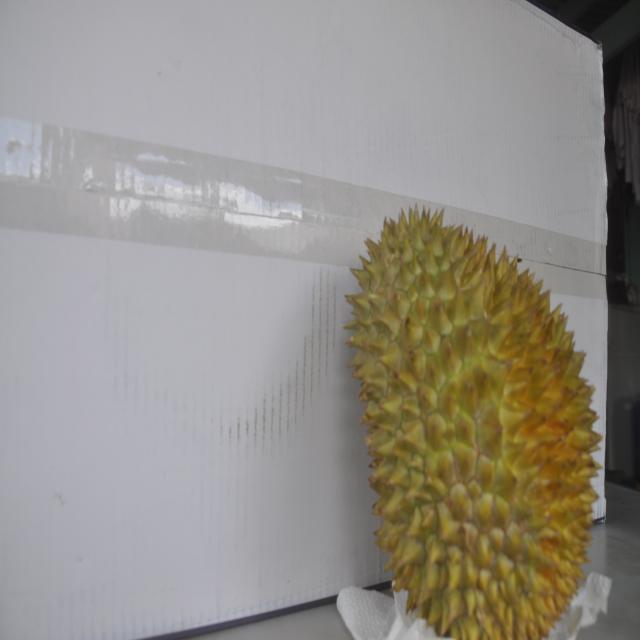mature: (342, 202, 607, 637)
